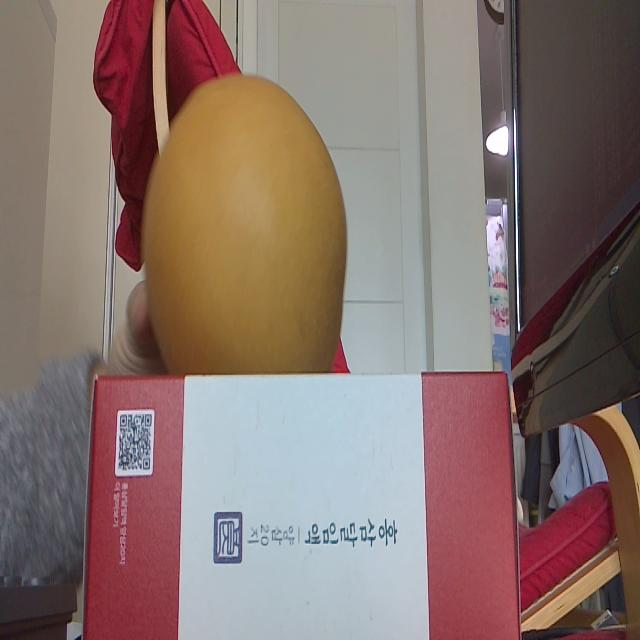pear: (143, 74, 348, 375)
